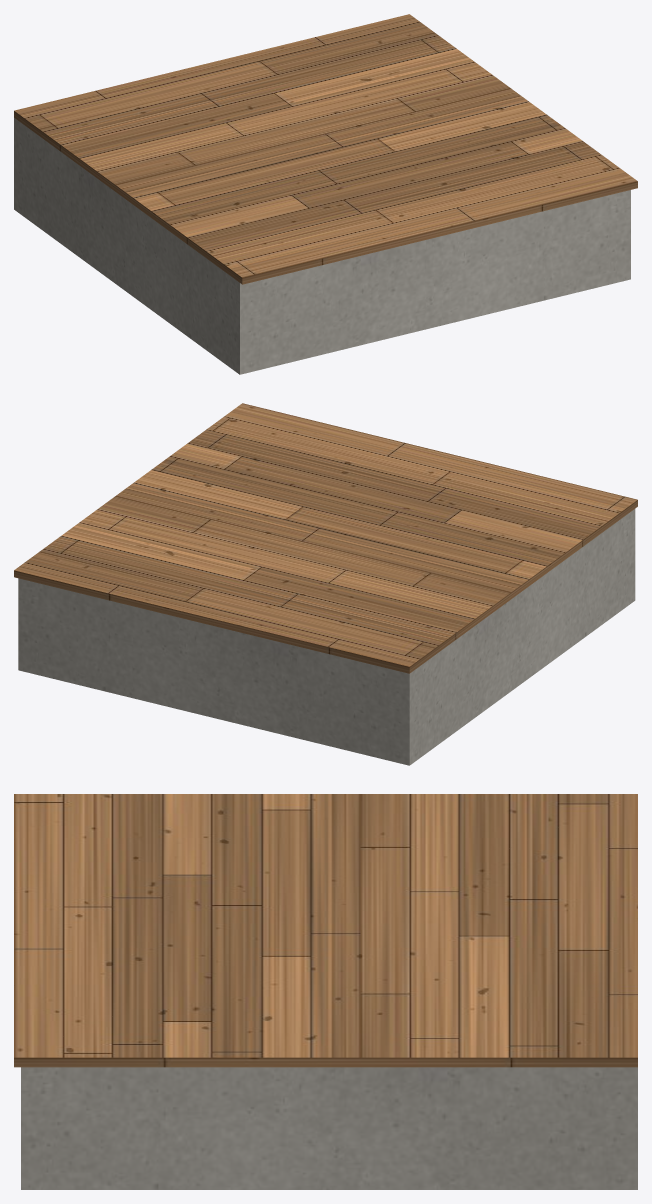
File: floor_wood_e20_0_20_0.glb
The picture shows the model from 3 angles, top to bottom: view 1: azimuth 30°, elevation 25°; view 2: azimuth 150°, elevation 25°; view 3: azimuth 270°, elevation 25°; orthographic projection. The views are drawn at different scales.
Visible parts, largest first — view 1: floor_wood_e20_0_20_0_floor, floor_wood_e20_0_20_0_concrete; view 2: floor_wood_e20_0_20_0_floor, floor_wood_e20_0_20_0_concrete; view 3: floor_wood_e20_0_20_0_floor, floor_wood_e20_0_20_0_concrete.
Boxes of the visible parts, box(x1,y1,x2,y2) form: floor_wood_e20_0_20_0_floor: box(14, 14, 637, 284); floor_wood_e20_0_20_0_concrete: box(14, 118, 630, 374); floor_wood_e20_0_20_0_floor: box(14, 403, 637, 673); floor_wood_e20_0_20_0_concrete: box(18, 509, 635, 765); floor_wood_e20_0_20_0_floor: box(14, 794, 637, 1067); floor_wood_e20_0_20_0_concrete: box(21, 1067, 637, 1189).
Bounding box in the file's own units: 1.8 × 0.43 × 1.8.
Materials: 2 (2 with a texture image).
